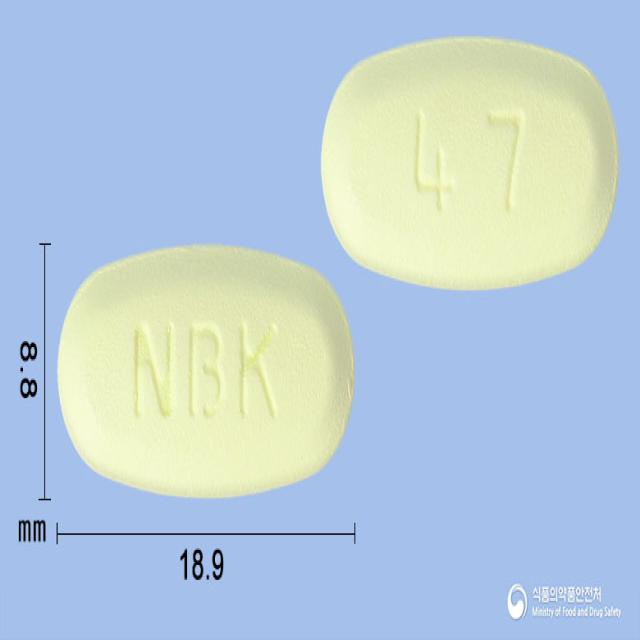Crema: (56, 241, 352, 501), (322, 34, 619, 284)
